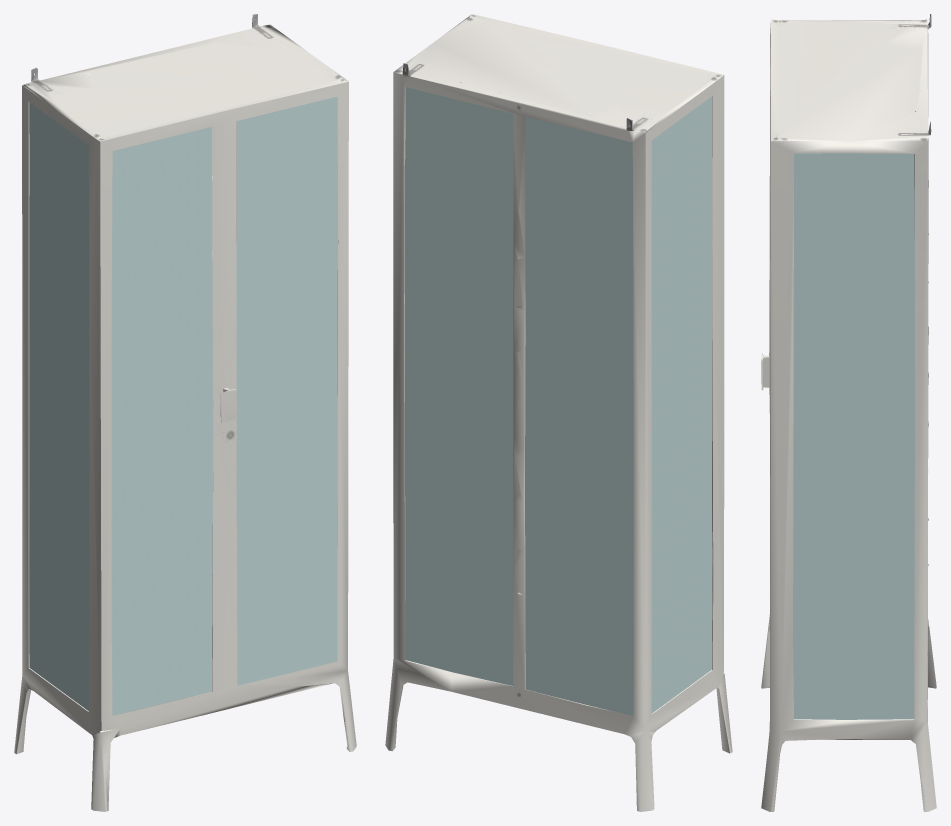
File: 20 - MILSBO Glass-door cabinet - white 73x175 cm.glb
3 views of the same model, side by side, from view 1: azimuth 30°, elevation 25°; view 2: azimuth 150°, elevation 25°; view 3: azimuth 270°, elevation 25° (orthographic).
Visible parts, largest first — view 1: 2, ProcessedMeshNode; view 2: 2, ProcessedMeshNode; view 3: 2, ProcessedMeshNode.
Boxes of the visible parts, box(x1,y1,x2,y2) form: 2: box(29, 96, 337, 715); ProcessedMeshNode: box(14, 14, 356, 811); 2: box(404, 87, 712, 715); ProcessedMeshNode: box(385, 14, 732, 811); 2: box(793, 153, 914, 719); ProcessedMeshNode: box(761, 14, 936, 811).
Bounding box in the file's own units: 0.7252 × 1.78 × 0.4177.
Materials: 2 (2 with a texture image).
